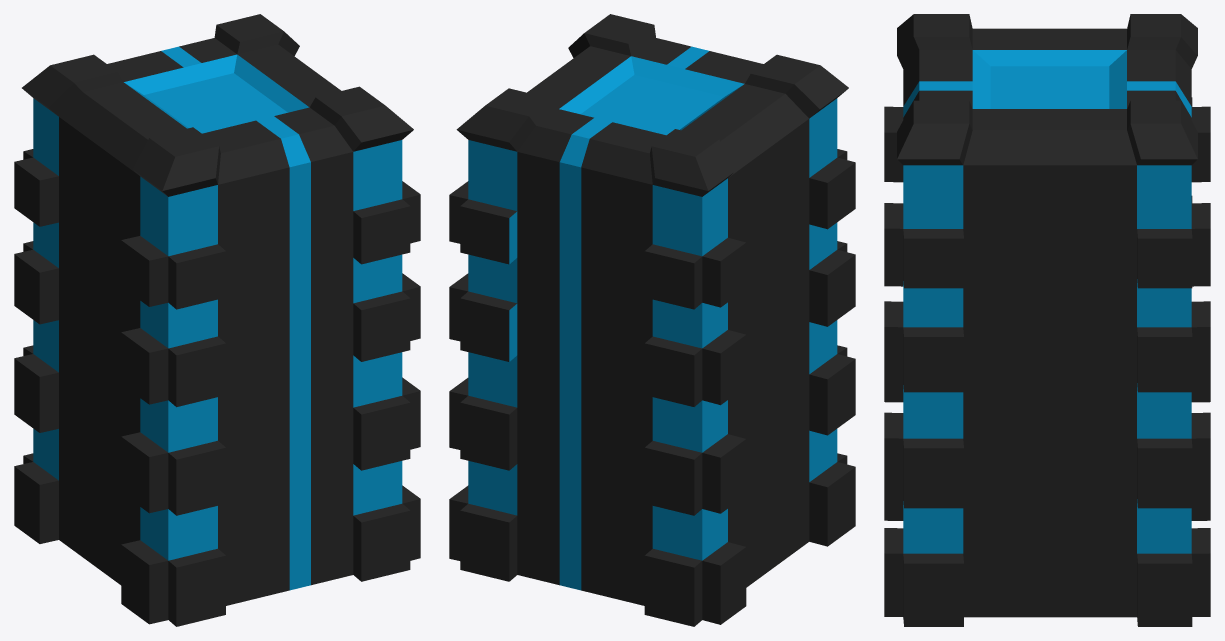
The model's file is TowerNeon01.fbx.
3 views of the same model, side by side, from view 1: azimuth 30°, elevation 25°; view 2: azimuth 150°, elevation 25°; view 3: azimuth 270°, elevation 25° (orthographic). The views are drawn at different scales.
Visible parts, largest first — view 1: TowerNeon01; view 2: TowerNeon01; view 3: TowerNeon01.
Part boxes in pixels (box(x1,y1,x2,y2)): TowerNeon01: box(14, 14, 420, 626); TowerNeon01: box(449, 14, 855, 626); TowerNeon01: box(884, 14, 1210, 626).
Bounding box in the file's own units: 2.32 × 3.73 × 2.27.
